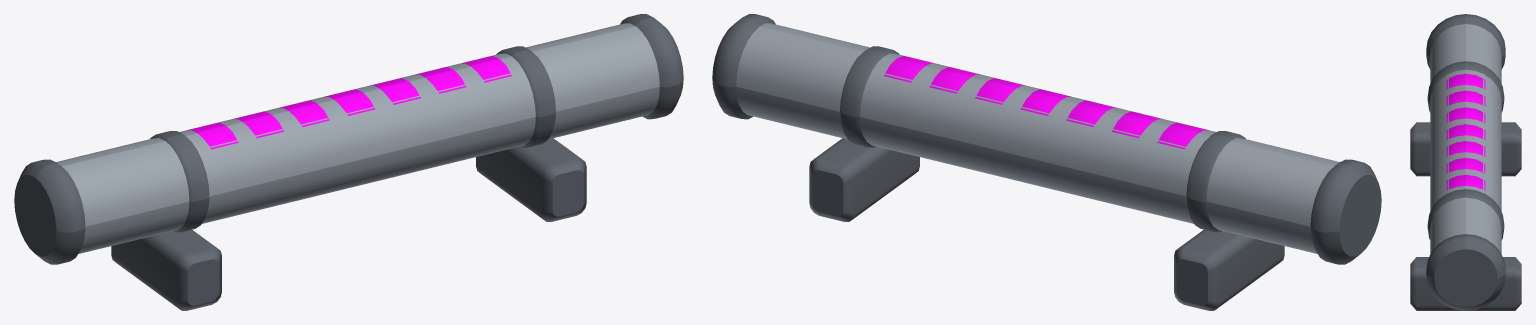
File: objet_barre_uranium.glb
3 renders of one model, left to right at view 1: azimuth 30°, elevation 25°; view 2: azimuth 150°, elevation 25°; view 3: azimuth 270°, elevation 25°, orthographic. The views are drawn at different scales.
Parts seen in each view (by area): view 1: barre_acier_doux.002, barre_acier_doux_sombre.002, barre_teinte.002; view 2: barre_acier_doux.002, barre_acier_doux_sombre.002, barre_teinte.002; view 3: barre_acier_doux_sombre.002, barre_acier_doux.002, barre_teinte.002.
Boxes of the visible parts, <box> form: barre_acier_doux.002: <box>56,23,659,253</box>; barre_acier_doux_sombre.002: <box>14,14,683,310</box>; barre_teinte.002: <box>187,56,511,149</box>; barre_acier_doux.002: <box>736,23,1339,253</box>; barre_acier_doux_sombre.002: <box>712,14,1381,310</box>; barre_teinte.002: <box>884,56,1208,149</box>; barre_acier_doux_sombre.002: <box>1410,14,1521,310</box>; barre_acier_doux.002: <box>1430,24,1501,253</box>; barre_teinte.002: <box>1446,73,1485,190</box>.
Bounding box in the file's own units: 0.344 × 0.0775 × 0.07.
